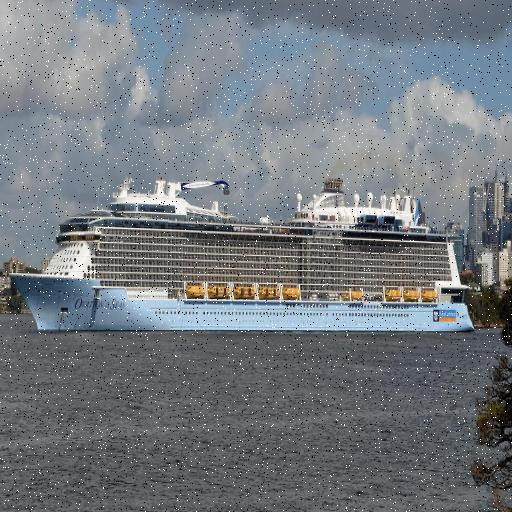cruises: (5, 172, 487, 337)
